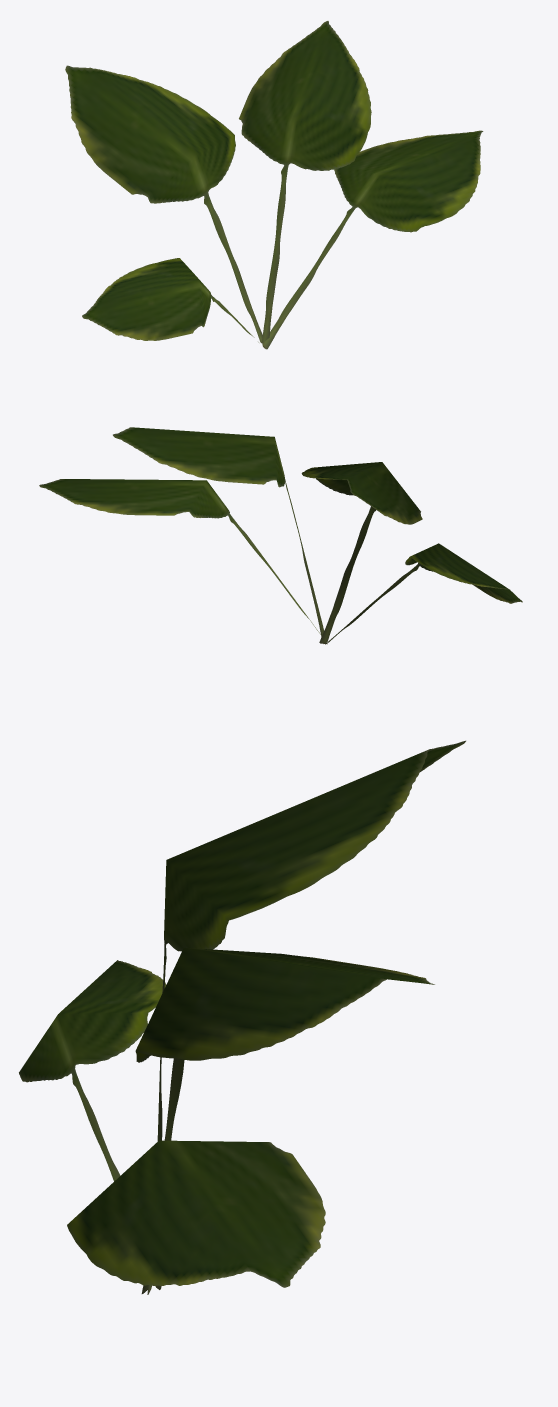
The model's file is LoveDeath_Plant_Art.glb.
3 renders of one model, top to bottom at view 1: azimuth 30°, elevation 25°; view 2: azimuth 150°, elevation 25°; view 3: azimuth 270°, elevation 25°, orthographic. The views are drawn at different scales.
Parts seen in each view (by area): view 1: LoveDeath_Plant_Art; view 2: LoveDeath_Plant_Art; view 3: LoveDeath_Plant_Art.
Boxes of the visible parts, box(x1,y1,x2,y2) form: LoveDeath_Plant_Art: box(65, 21, 483, 349); LoveDeath_Plant_Art: box(39, 427, 522, 644); LoveDeath_Plant_Art: box(19, 740, 465, 1294).
Bounding box in the file's own units: 2.7 × 1.54 × 1.37.
1 material, 1 textured.
